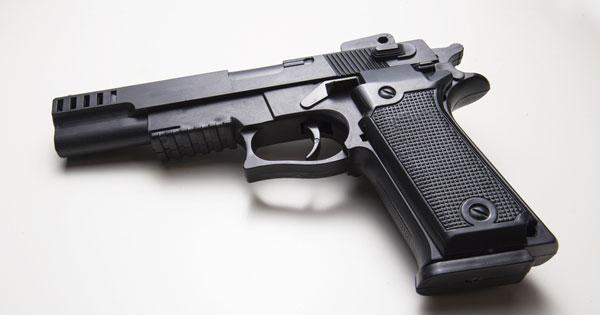gun: (38, 29, 568, 307)
